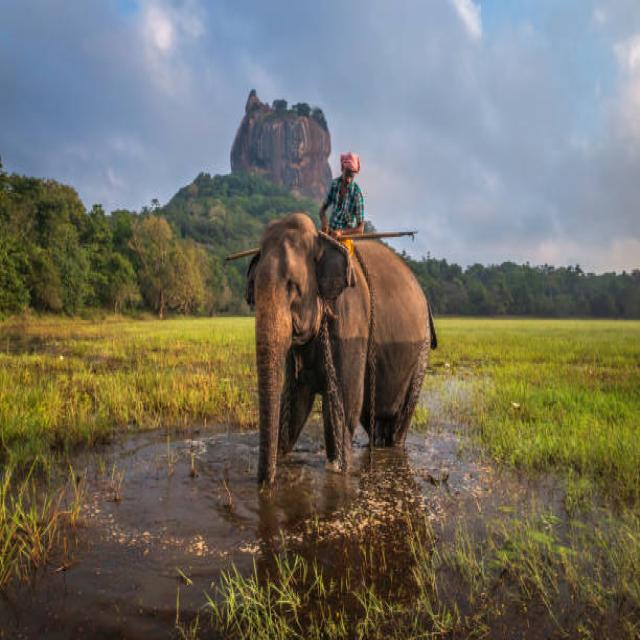Elephant: (240, 206, 443, 496)
